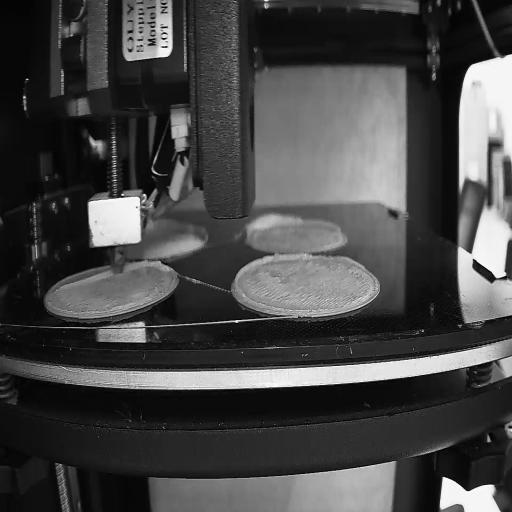over_extrusion: (233, 252, 319, 316), (242, 212, 304, 242), (54, 267, 112, 293), (331, 252, 366, 272), (124, 258, 163, 270), (308, 218, 341, 232)
